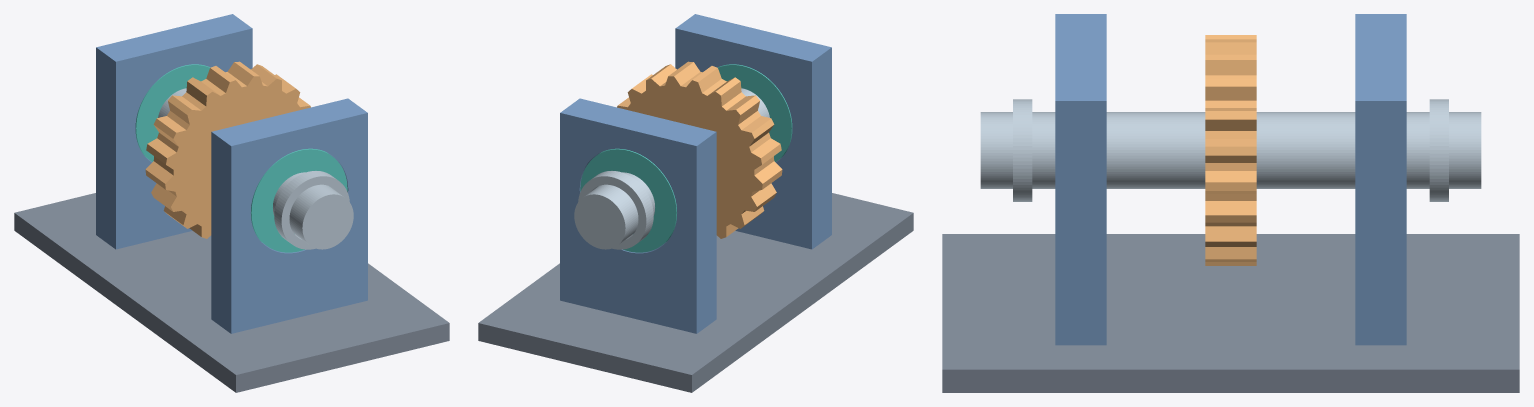
Rendered from assembly.glb.
The picture shows the model from 3 angles, left to right: view 1: azimuth 30°, elevation 25°; view 2: azimuth 150°, elevation 25°; view 3: azimuth 270°, elevation 25°; orthographic projection. The views are drawn at different scales.
Visible parts, largest first — view 1: base, rear_housing, front_housing, gear, shaft, rear_bearing, front_bearing, rear_retainer; view 2: base, front_housing, rear_housing, gear, shaft, front_bearing, rear_bearing, front_retainer; view 3: base, shaft, front_housing, rear_housing, gear, front_retainer, rear_retainer.
Boxes of the visible parts, box(x1,y1,x2,y2) form: base: box(14, 193, 449, 392); rear_housing: box(211, 98, 367, 333); front_housing: box(96, 14, 252, 249); gear: box(145, 61, 310, 238); shaft: box(158, 88, 353, 249); rear_bearing: box(251, 148, 347, 252); front_bearing: box(135, 64, 210, 161); rear_retainer: box(274, 171, 349, 249); base: box(478, 193, 913, 392); front_housing: box(560, 98, 716, 333); rear_housing: box(675, 14, 831, 249); gear: box(617, 61, 782, 238); shaft: box(574, 88, 769, 249); front_bearing: box(580, 148, 676, 252); rear_bearing: box(717, 64, 792, 161); front_retainer: box(578, 171, 653, 249); base: box(942, 234, 1519, 392); shaft: box(980, 112, 1481, 188); front_housing: box(1355, 14, 1406, 345); rear_housing: box(1055, 14, 1106, 345); gear: box(1205, 35, 1256, 265); front_retainer: box(1429, 99, 1448, 201); rear_retainer: box(1013, 99, 1032, 201).
Bounding box in the file's own units: 0.0589 × 0.0564 × 0.1059.
